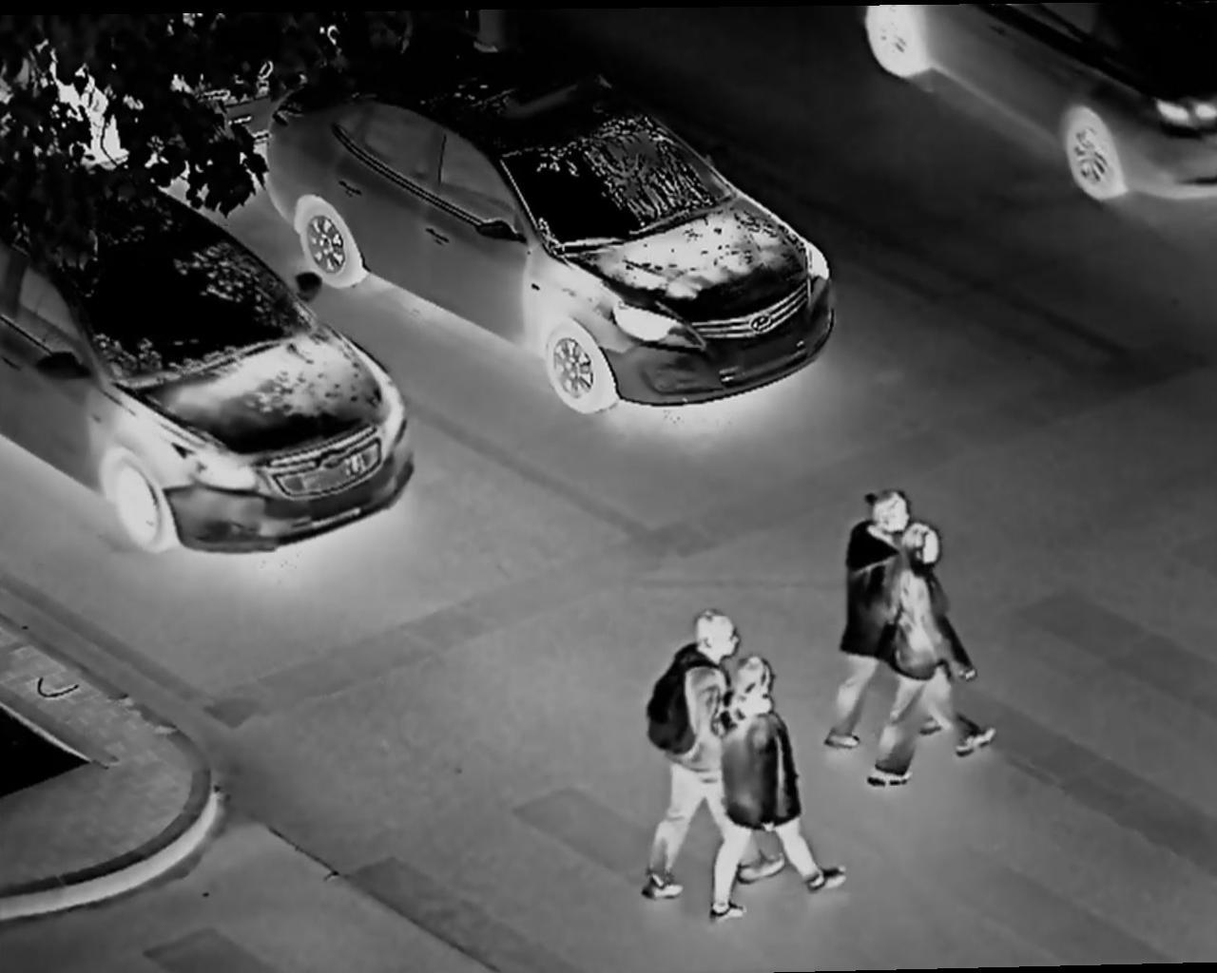person: (624, 609, 766, 903), (704, 655, 857, 923), (823, 486, 940, 748), (881, 522, 992, 785)
